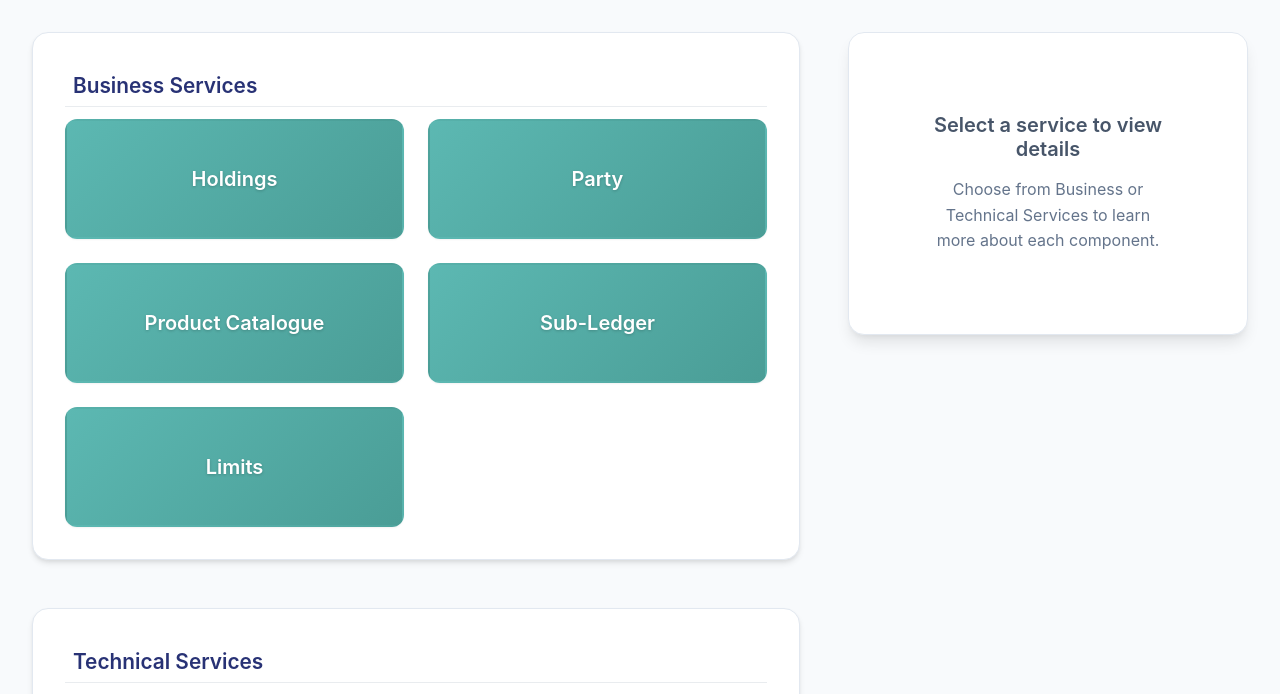
SupportingServices Component › clicking business service updates selected state and details pane
Click the button with test id "holdings-service" at (234, 179), box [65,119,404,239]
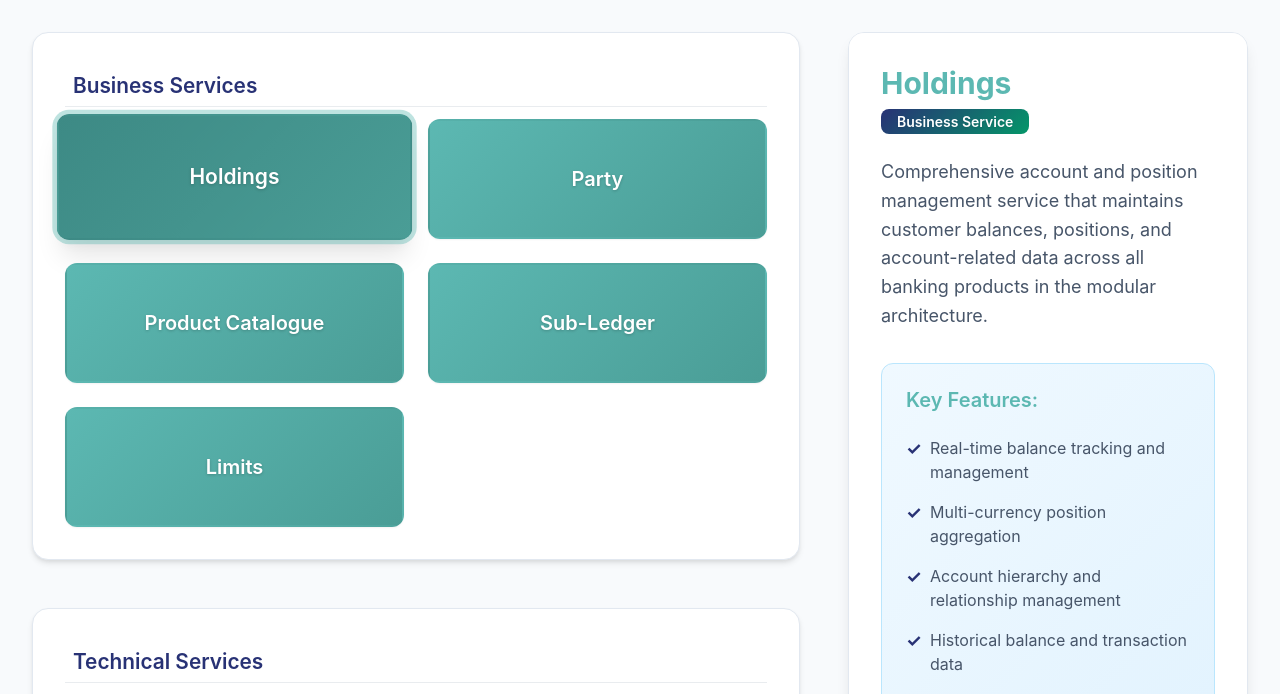
Expected: the element with test id "details-pane" shows "Holdings", [881,65,1011,101]
